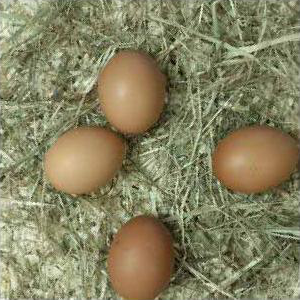egg: (213, 126, 300, 193), (99, 49, 166, 135), (107, 216, 175, 300), (44, 128, 127, 194)
